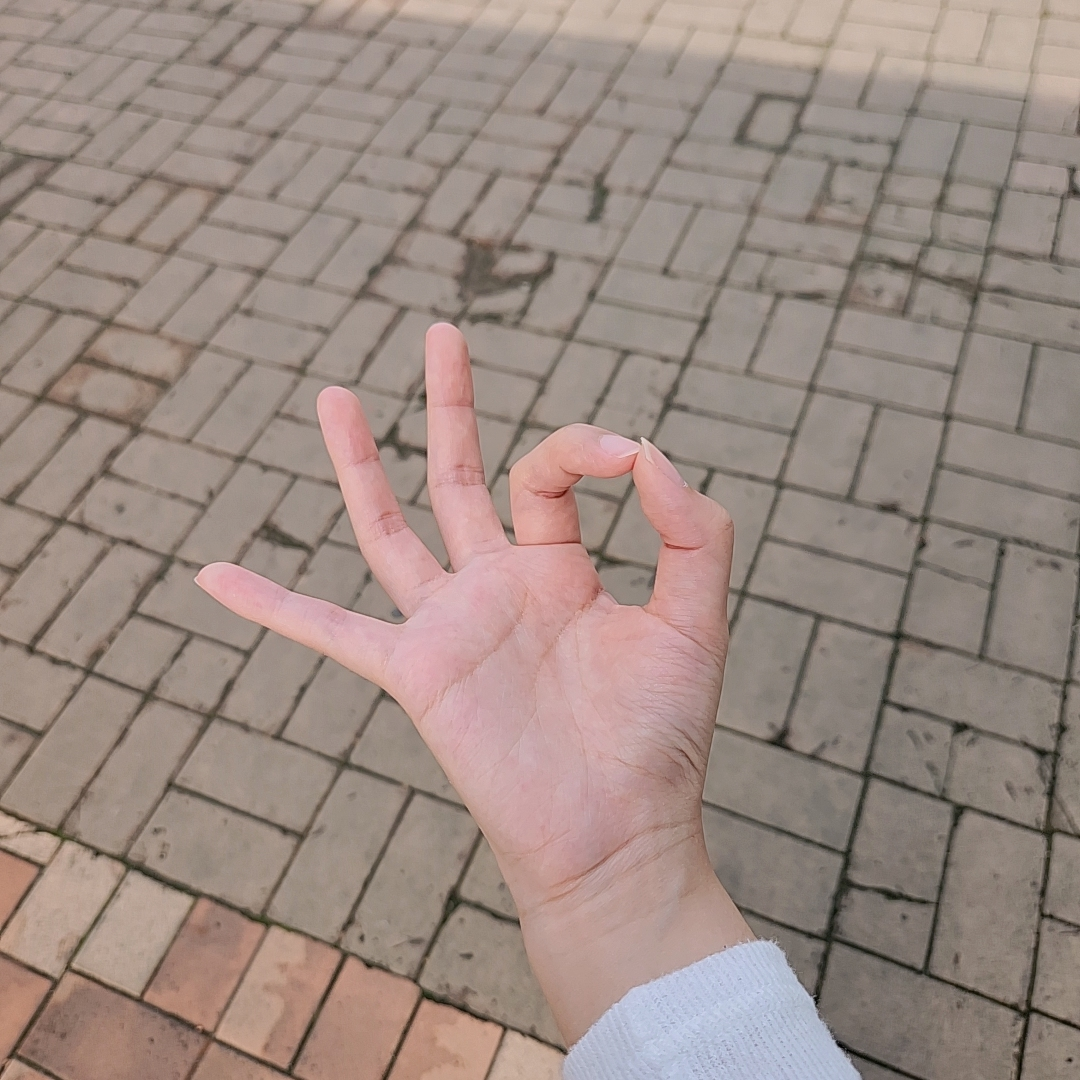see: (197, 323, 739, 860)
